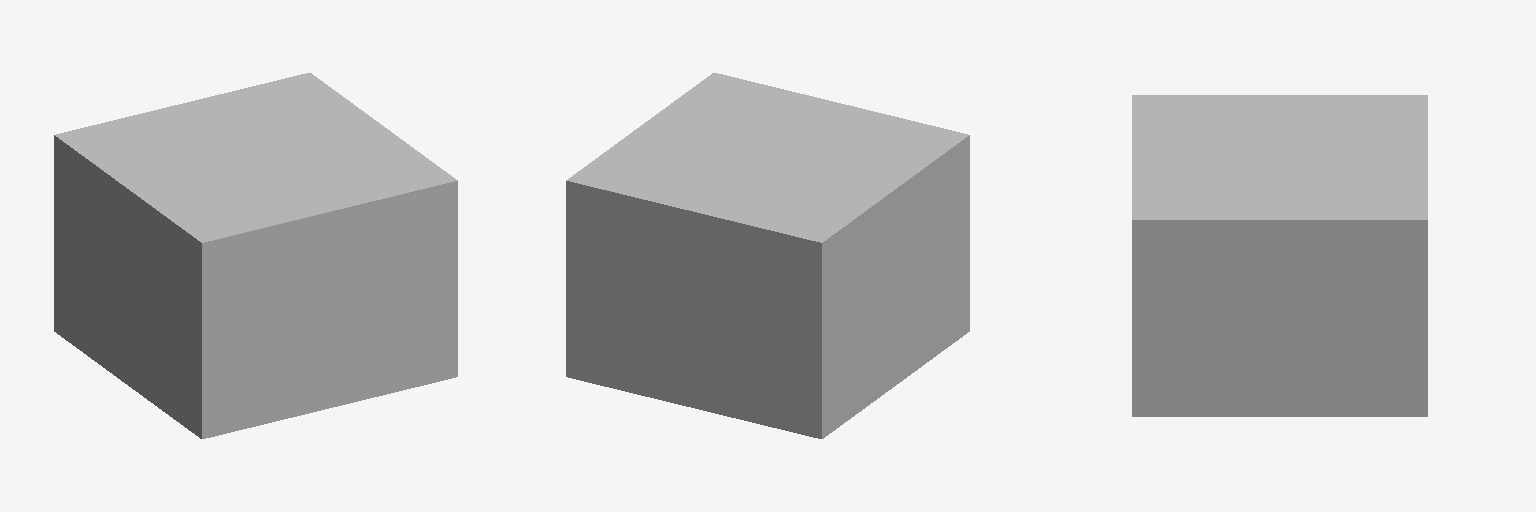
The model's file is head_male_eyes_left.obj.
The picture shows the model from 3 angles: view 1: azimuth 30°, elevation 25°; view 2: azimuth 150°, elevation 25°; view 3: azimuth 270°, elevation 25°; orthographic projection.
Visible parts, largest first — view 1: object 1; view 2: object 1; view 3: object 1.
Part boxes in pixels (x1,y1,x2,y2): object 1: (54, 73, 457, 438); object 1: (566, 73, 969, 438); object 1: (1132, 95, 1427, 416).
Size of the model in its own units: 0.9999 by 0.7333 by 0.9999.